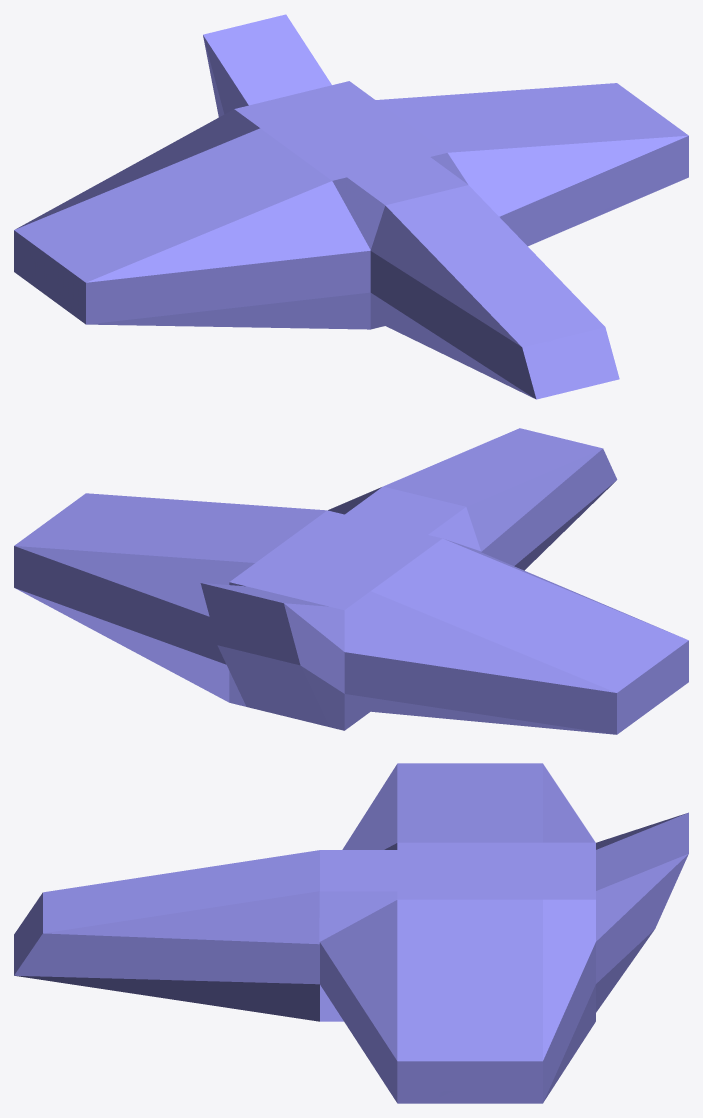
File: practice_ship2.glb
3 renders of one model, top to bottom at view 1: azimuth 30°, elevation 25°; view 2: azimuth 150°, elevation 25°; view 3: azimuth 270°, elevation 25°, orthographic.
Visible parts, largest first — view 1: Cube; view 2: Cube; view 3: Cube.
Boxes of the visible parts, x1,y1,x2,y2 form: Cube: (14,14,688,399); Cube: (14,428,688,734); Cube: (14,763,688,1103).
Bounding box in the file's own units: 10.47 × 2.62 × 10.03.
Materials: 1 (1 with a texture image).
